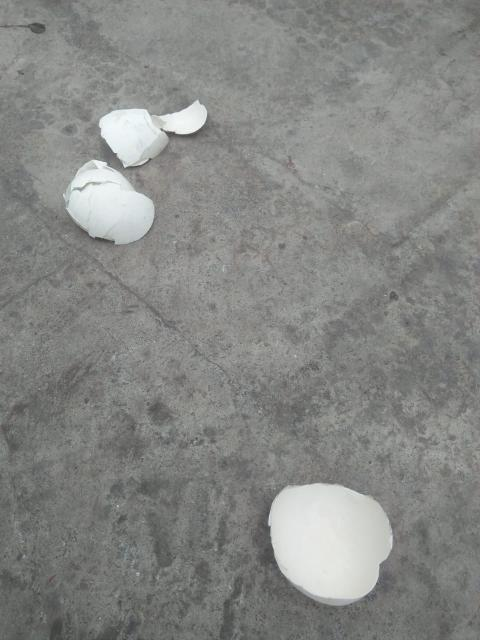Roto: (267, 480, 395, 607), (62, 158, 155, 245), (98, 98, 207, 168), (152, 98, 208, 135)
